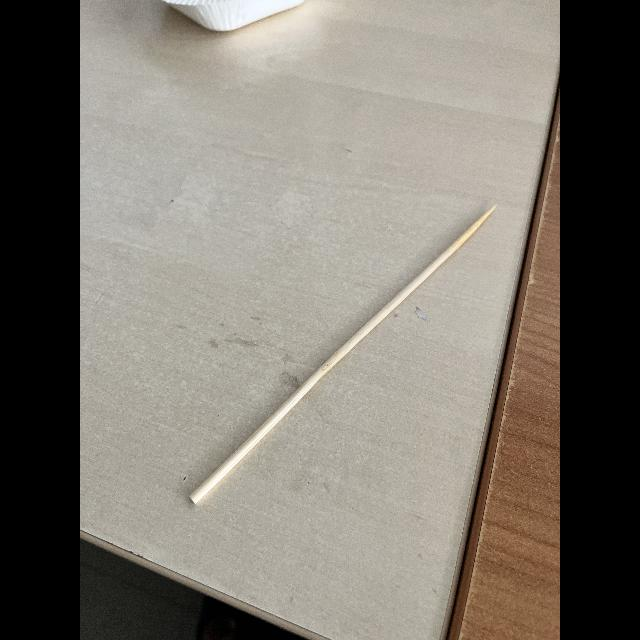stick: (180, 195, 502, 512)
